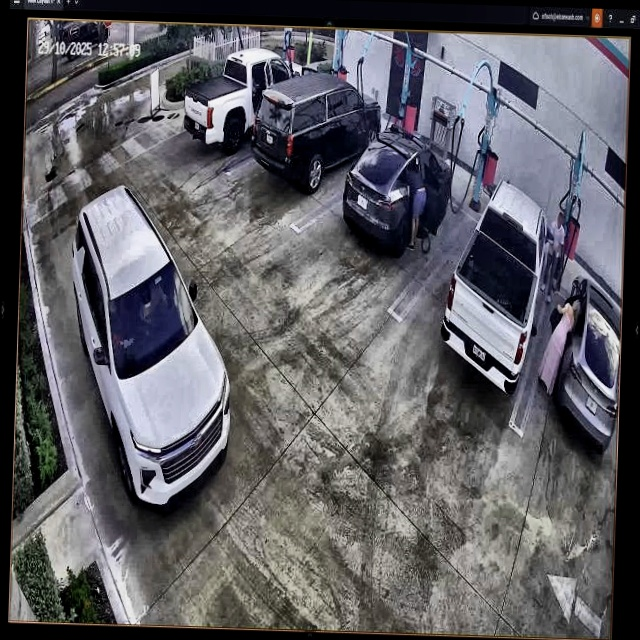Car: (63, 185, 240, 508), (438, 179, 555, 392), (250, 65, 382, 194), (344, 126, 453, 255)
